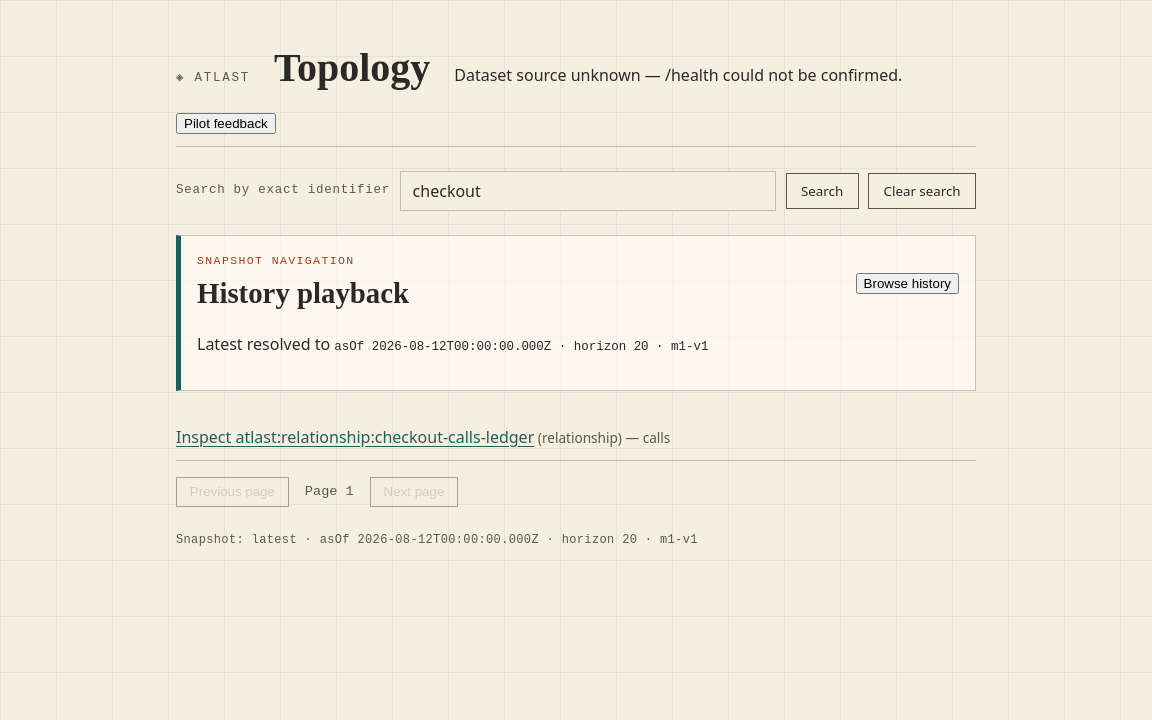
TopologyPage — search › opens trust for an exact Relationship search result without inventing an Entity route
Click the button "Inspect atlast:relationship:checkout-calls-ledger" at (355, 437), box x1=176 y1=425 x2=534 y2=450
(page scrolled)
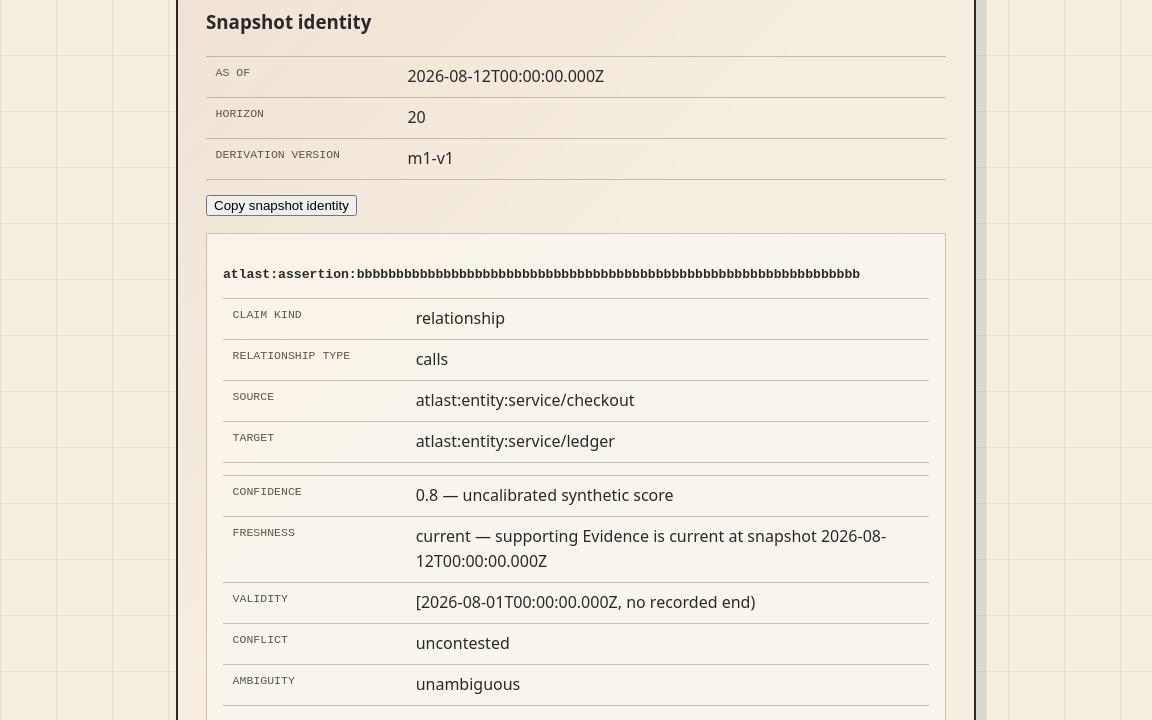
Expected: the link "atlast:relationship:checkout-calls-ledger" is not shown
Now the text "calls" is shown, box x1=406 y1=340 x2=929 y2=381
